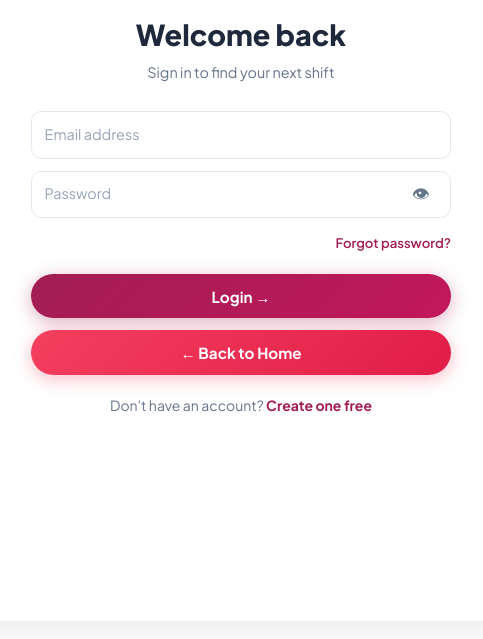
it: LoginPage › shows forgot password form when link is clicked
Click the text "Forgot password?".
click(393, 242)  # box 336,234 -> 451,251
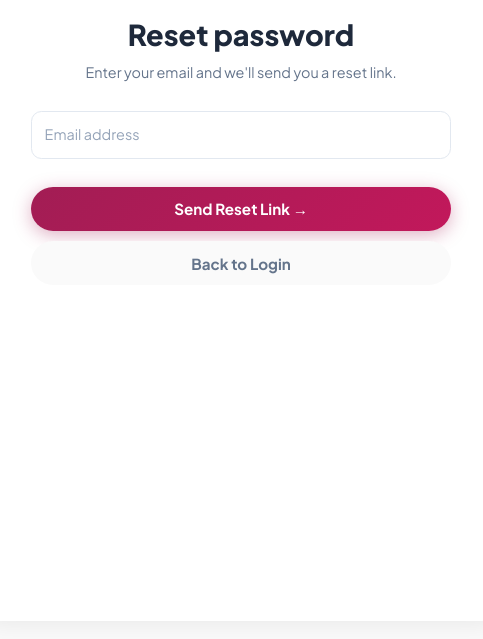
Result: the heading "Reset password" is shown at 128,16 -> 354,52
Result: the button "Send Reset Link →" is shown at 31,187 -> 451,231
